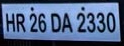0: (106, 12, 117, 33)
2: (75, 12, 88, 34), (29, 13, 39, 33)
3: (95, 11, 107, 33), (86, 12, 97, 34)
6: (38, 13, 48, 34)
A: (62, 12, 74, 33)
D: (50, 12, 62, 34)
H: (5, 12, 16, 33)
R: (15, 13, 27, 33)
